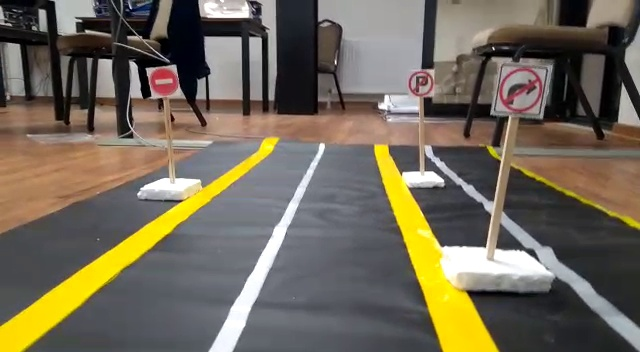girisi_olmayan_yol: (146, 64, 181, 96)
park_yapilmaz: (407, 69, 436, 98)
saga_donulmez: (495, 62, 547, 119)
